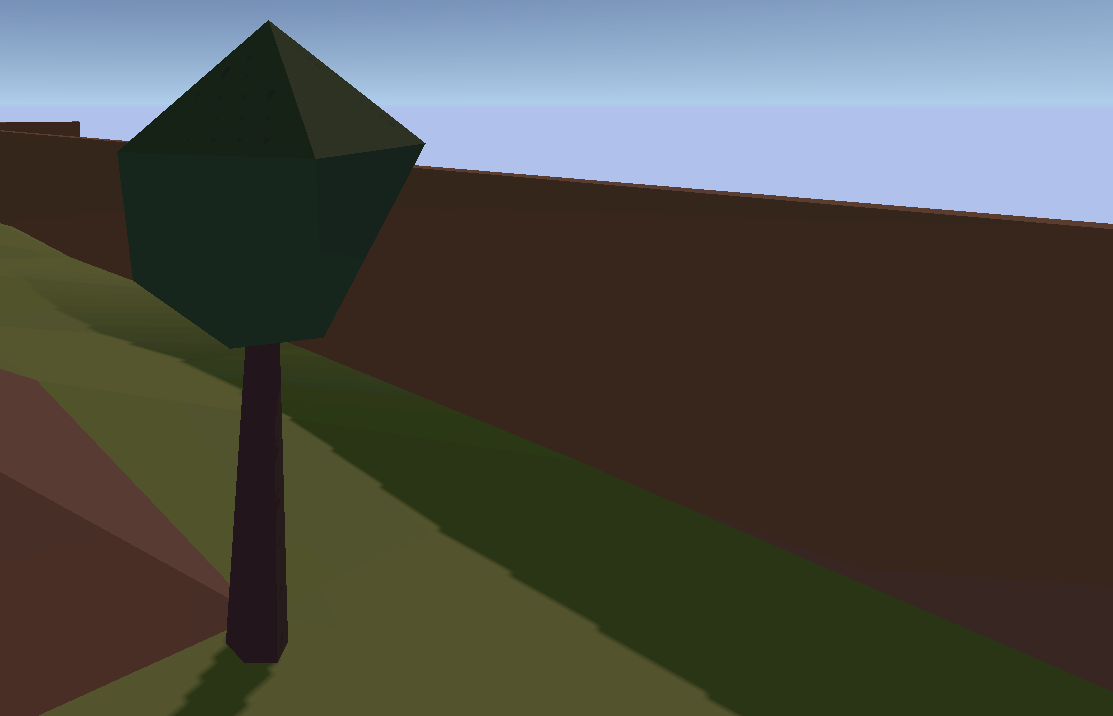tree: (113, 15, 428, 672)
